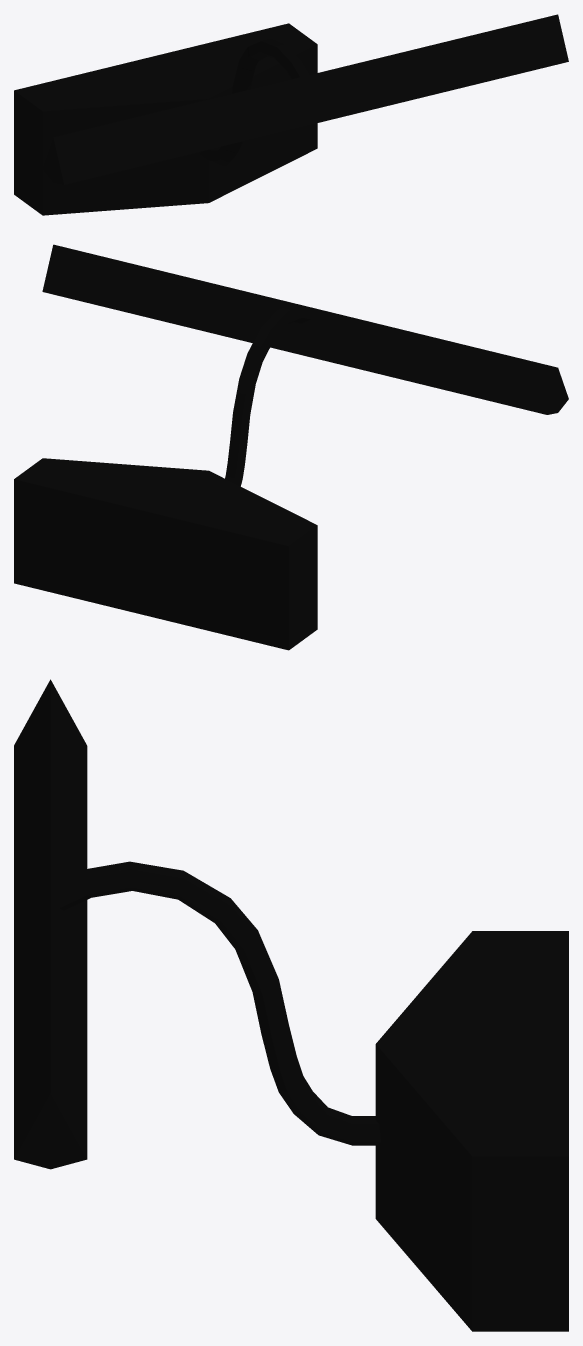
Rendered from GalleryLight_Off.glb.
The picture shows the model from 3 angles, top to bottom: view 1: azimuth 30°, elevation 25°; view 2: azimuth 150°, elevation 25°; view 3: azimuth 270°, elevation 25°; orthographic projection. The views are drawn at different scales.
Visible parts, largest first — view 1: galleryLight_Off; view 2: galleryLight_Off; view 3: galleryLight_Off.
Boxes of the visible parts, <box> form: galleryLight_Off: <box>14,14,568,215</box>; galleryLight_Off: <box>14,244,568,650</box>; galleryLight_Off: <box>14,679,568,1331</box>.
Size of the model in its own units: 0.5519 by 0.2197 by 0.3126.
Materials: 1 (1 with a texture image).
